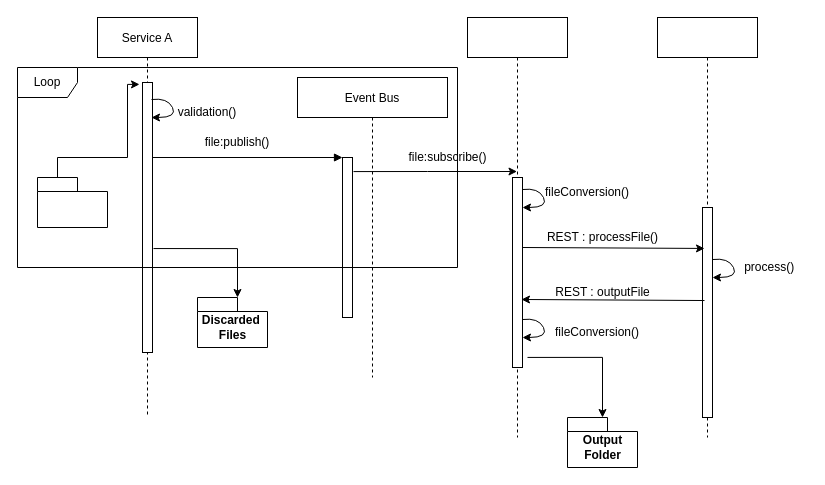
This 825x485 diagram has some shape labels left out. Each missing label, with the box of its shape:
Input Folder: (36, 176, 108, 228)
Service B: (466, 16, 568, 438)
Service C: (656, 16, 758, 438)
